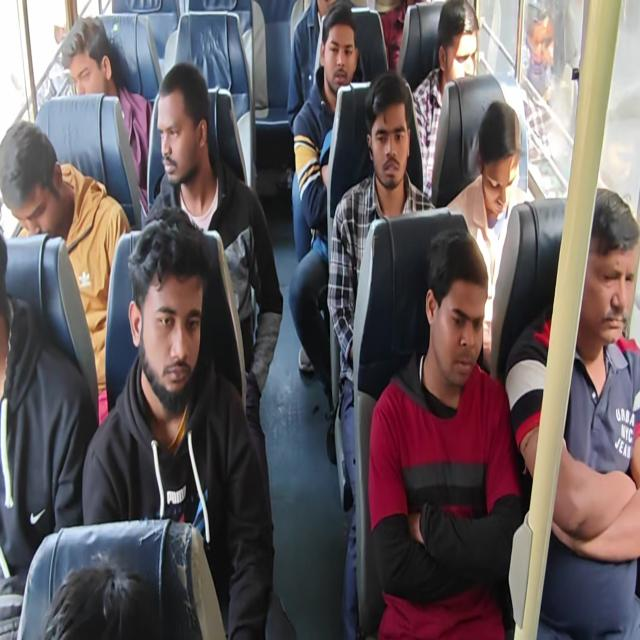person: (122, 210, 224, 408), (566, 182, 640, 380), (28, 555, 178, 640), (419, 224, 492, 388), (144, 64, 224, 186), (0, 108, 69, 238), (474, 99, 534, 235), (361, 79, 421, 198), (56, 12, 119, 118), (314, 0, 372, 93), (435, 0, 491, 90), (0, 217, 16, 343), (298, 0, 348, 15)
